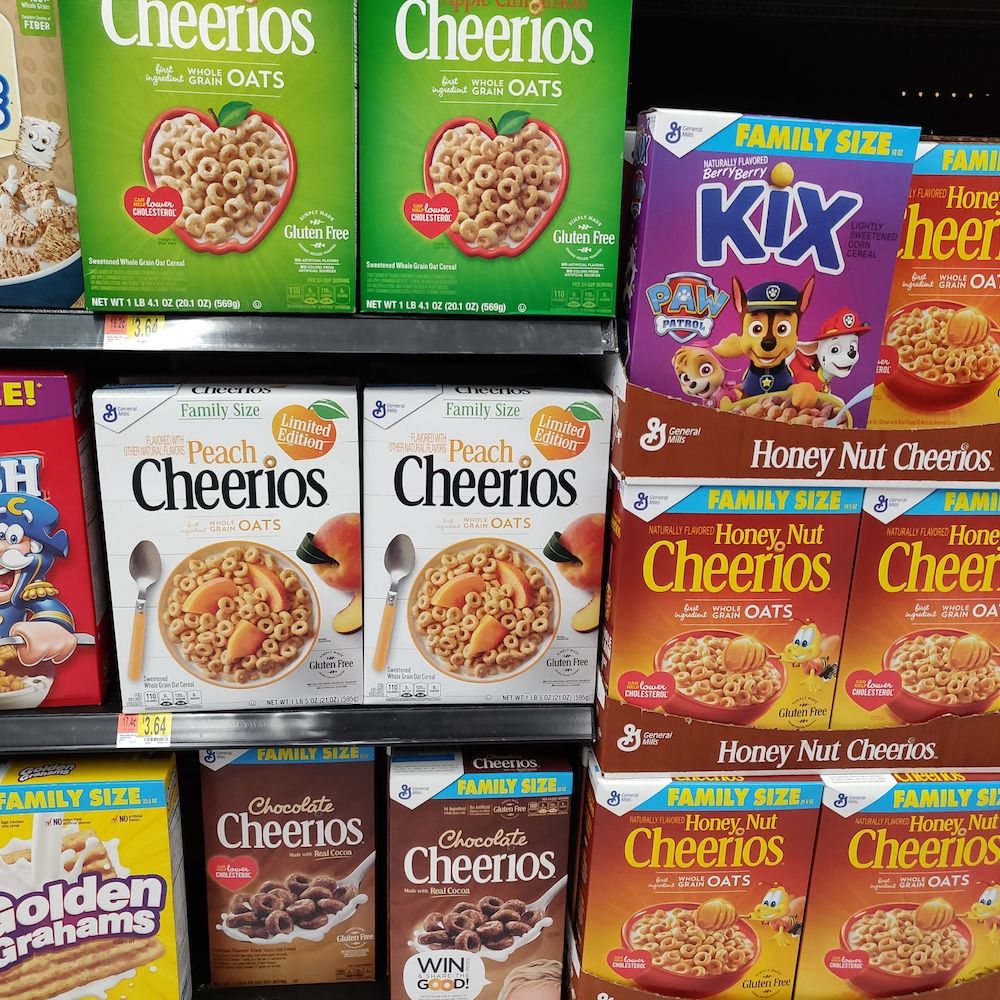Kix Berry -568919964: (646, 117, 880, 445)
